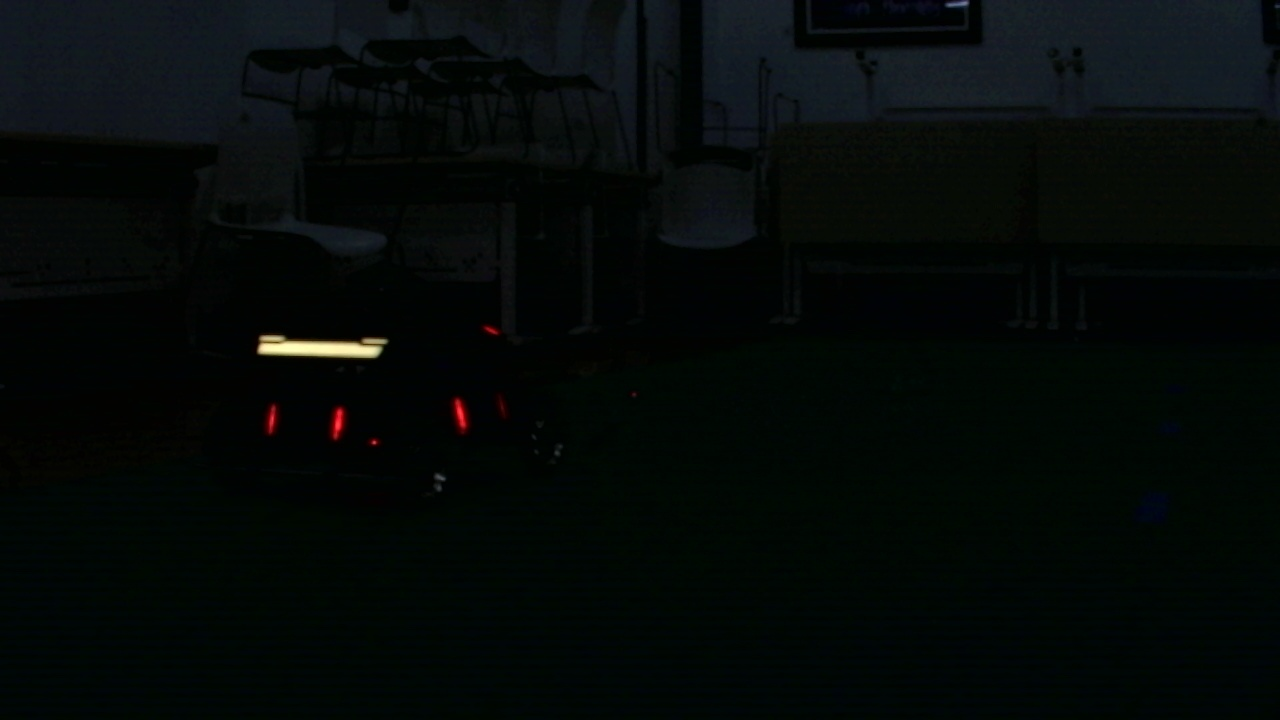lamp: (448, 399, 472, 436), (330, 408, 344, 444), (266, 399, 277, 442)
pair1: (268, 399, 346, 441)
